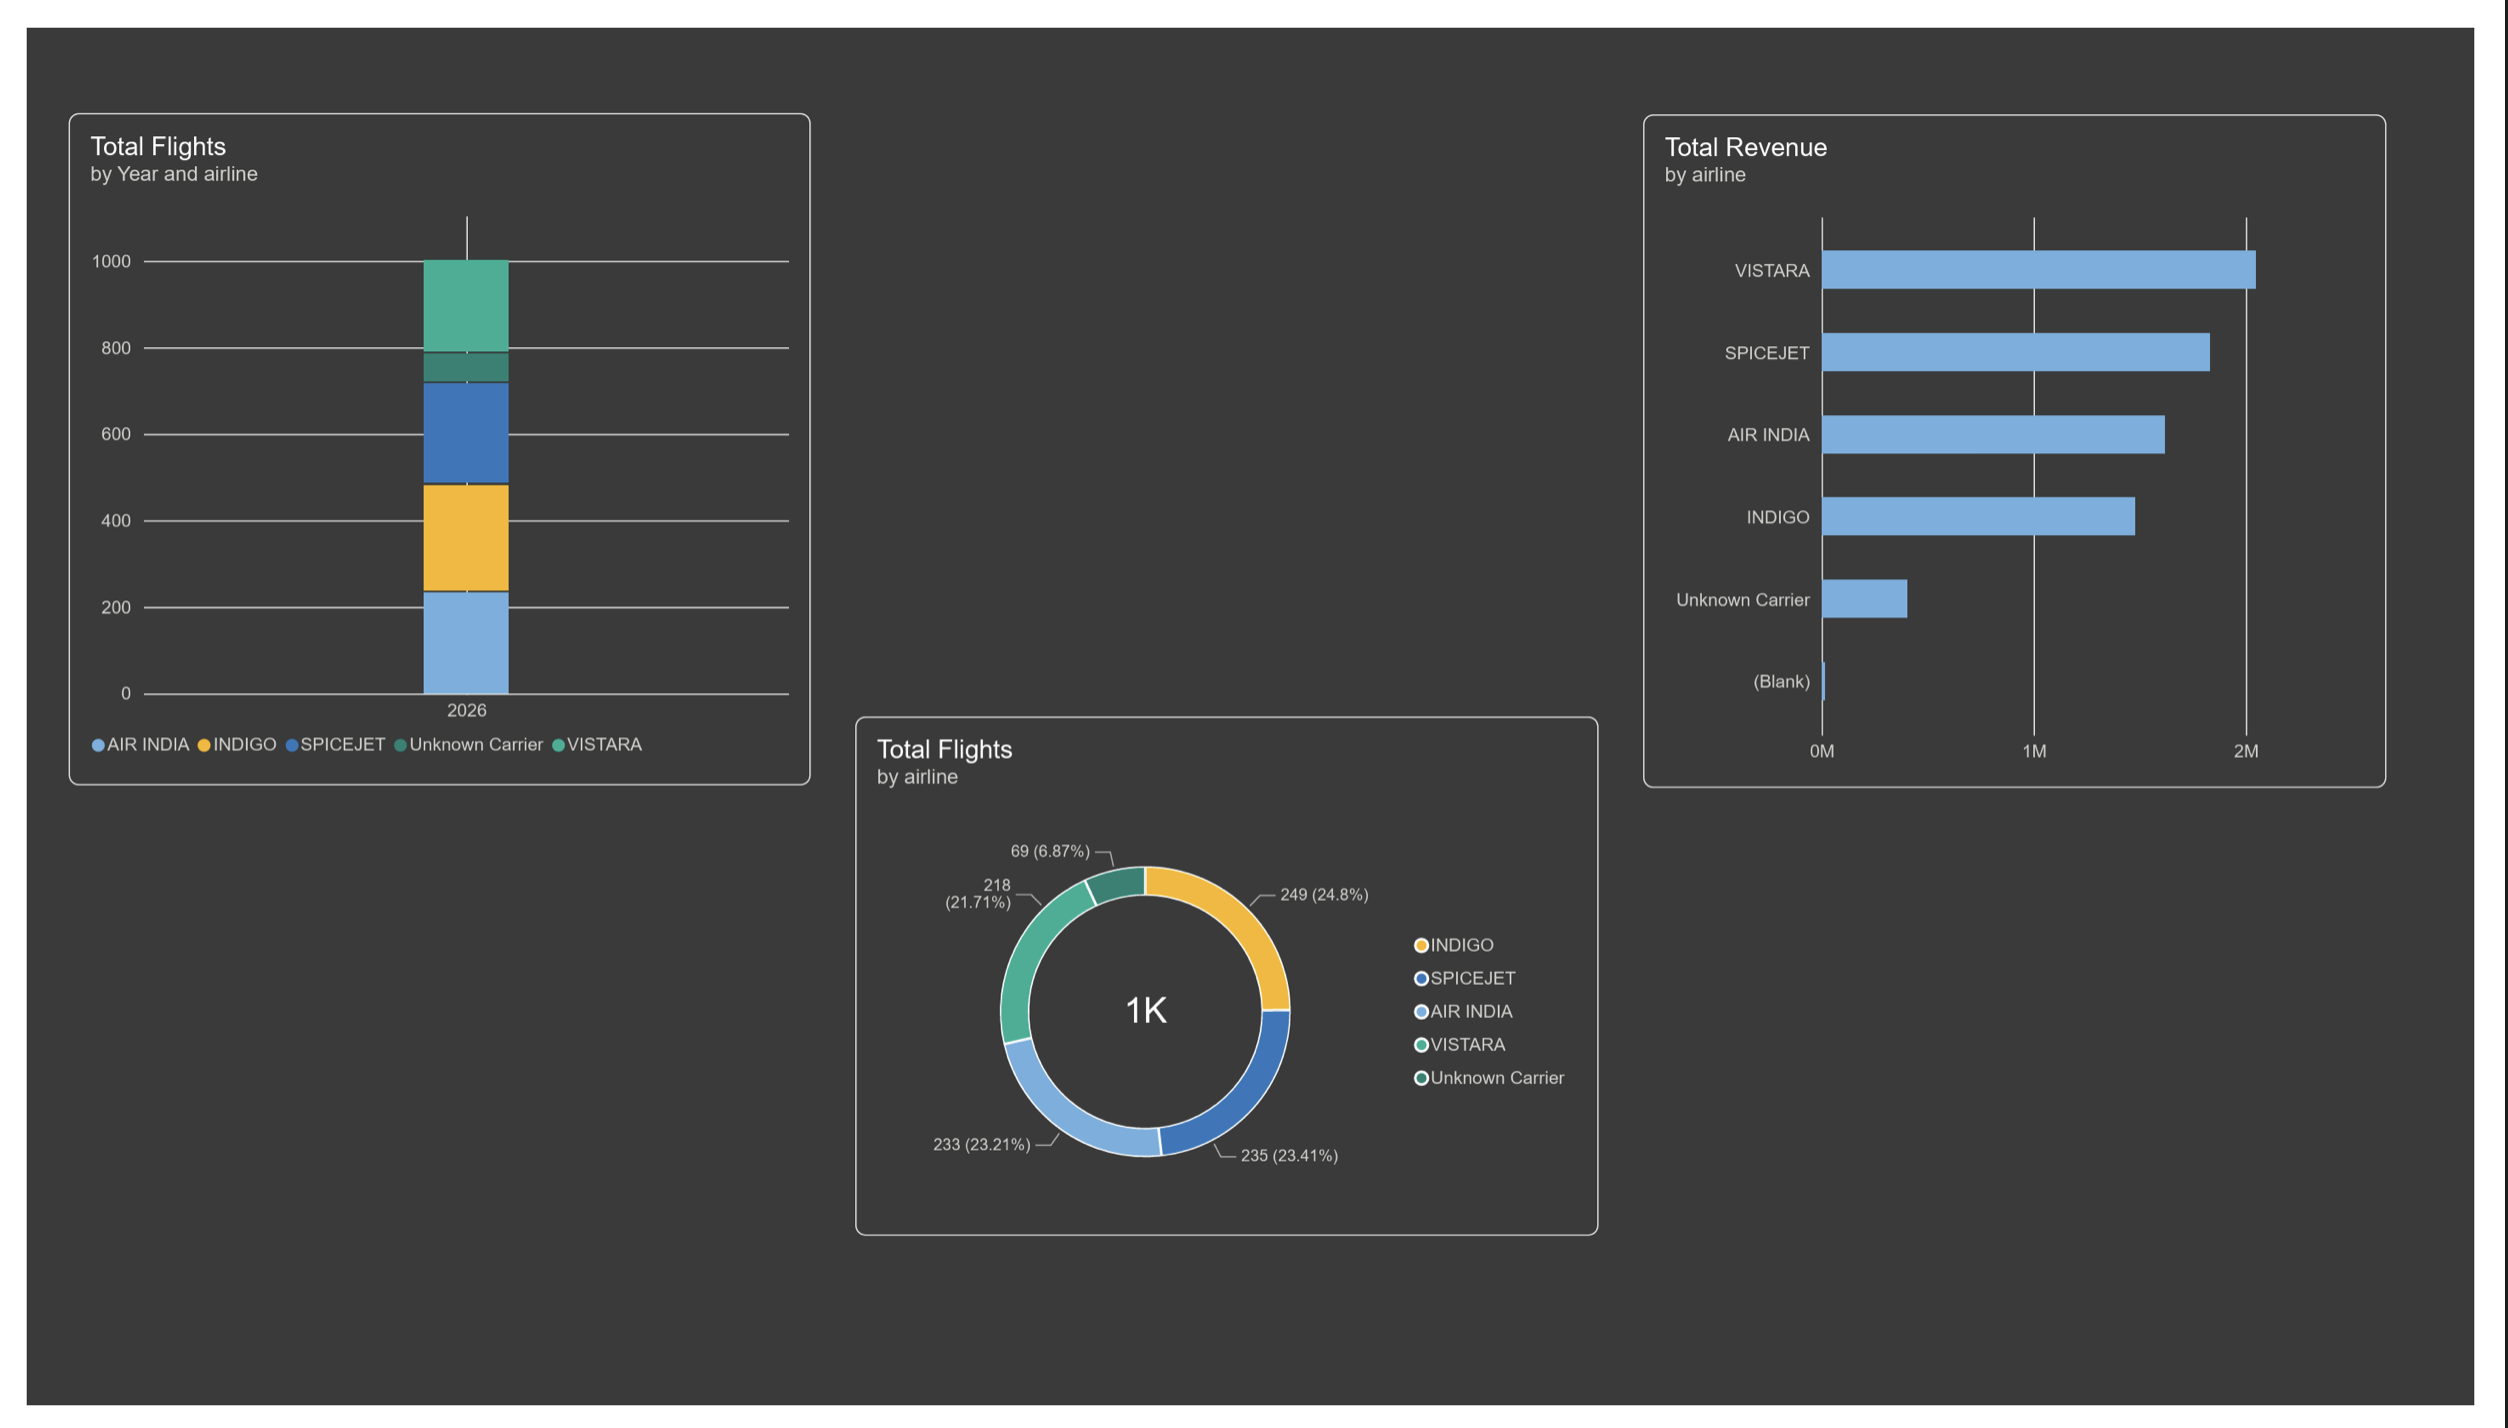

What the dashboard file says about the page in this screenshot:
{"tool":"powerbi","page":{"name":"Airline Trends","canvas":[1920,1080],"ordinal":3},"visuals":[{"type":"lineStackedColumnComboChart","fields":{"Category":["dim_date.date.Variation.Date Hierarchy.Year","dim_date.date.Variation.Date Hierarchy.Quarter","dim_date.date.Variation.Date Hierarchy.Month","dim_date.date.Variation.Date Hierarchy.Day"],"Series":["dim_airline.airline"],"Y":["_Measures.Total Flights"]},"box":[32.6,67,582.5,527.5],"z":0},{"type":"donutChart","fields":{"Category":["dim_airline.airline"],"Y":["_Measures.Total Flights"]},"box":[650,540,583,407],"z":1000},{"type":"barChart","fields":{"Category":["dim_airline.airline"],"Y":["_Measures.Total Revenue"]},"box":[1267.5,67.5,583,528],"z":2000}]}

Visuals, with their boxes in screenshot pixels (x1, y1, x2, y2), scaled from the page's 1920x1080 canvas onto the 2508x1428 screenshot:
lineStackedColumnComboChart - dim_date.date.Variation.Date Hierarchy.Year x dim_date.date.Variation.Date Hierarchy.Quarter: {"left": 43, "top": 89, "right": 803, "bottom": 786}
donutChart - dim_airline.airline x _Measures.Total Flights: {"left": 849, "top": 714, "right": 1611, "bottom": 1252}
barChart - dim_airline.airline x _Measures.Total Revenue: {"left": 1656, "top": 89, "right": 2417, "bottom": 787}
